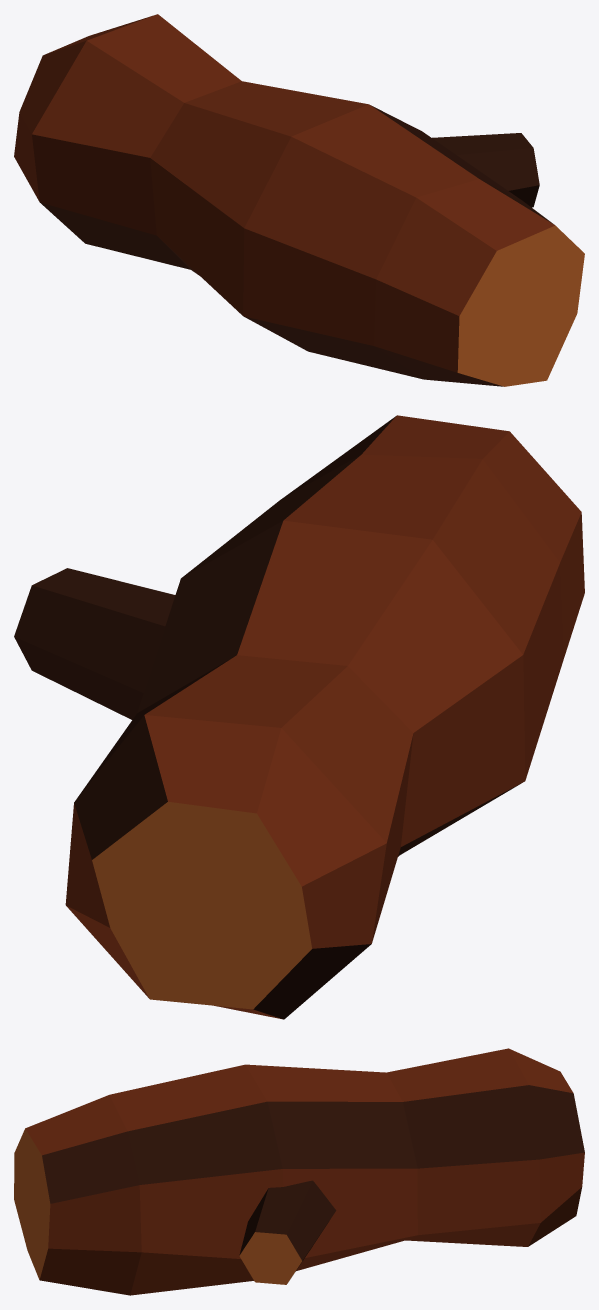
The model's file is wood.glb.
3 renders of one model, top to bottom at view 1: azimuth 30°, elevation 25°; view 2: azimuth 150°, elevation 25°; view 3: azimuth 270°, elevation 25°, orthographic. The views are drawn at different scales.
Parts seen in each view (by area): view 1: wood; view 2: wood; view 3: wood.
Boxes of the visible parts, x1=… form: wood: x1=14, y1=14, x2=584, y2=386; wood: x1=14, y1=415, x2=584, y2=1019; wood: x1=14, y1=1048, x2=584, y2=1295.
Size of the model in its own units: 0.2044 by 0.1171 by 0.3204.
1 material, 1 textured.
